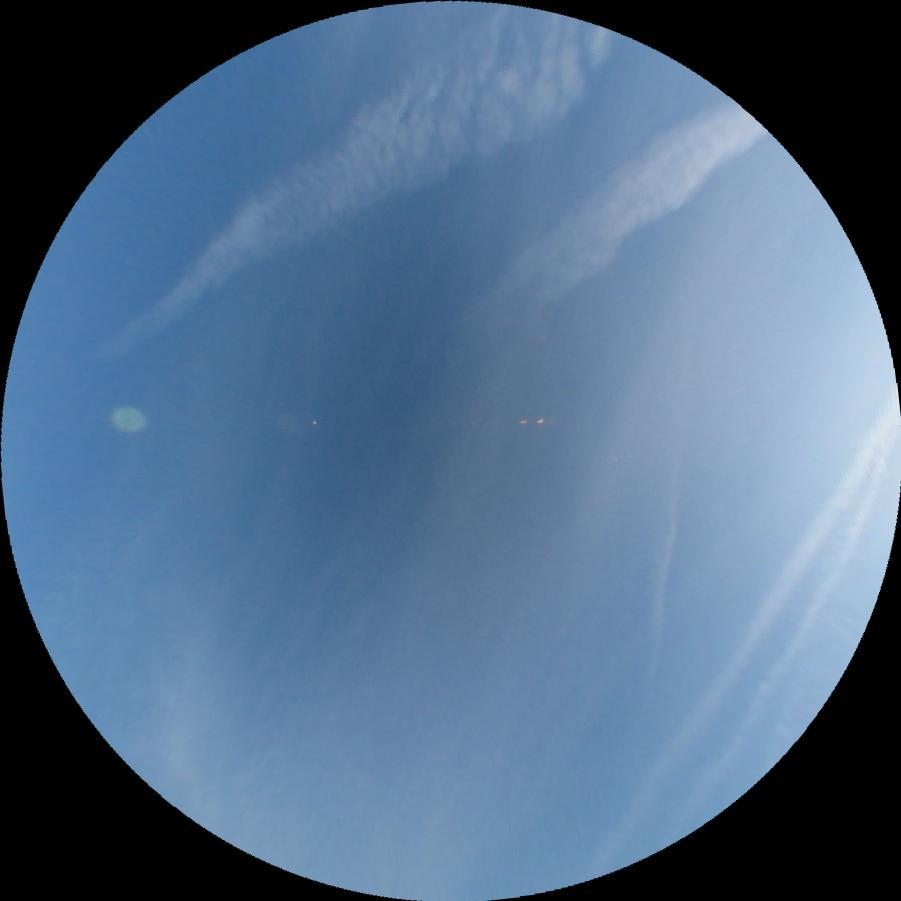contrail veryold: (584, 390, 901, 886), (428, 79, 773, 382)
